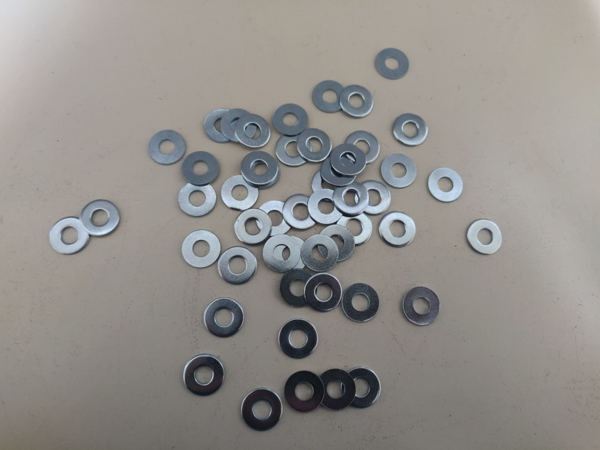circle: (183, 355, 225, 397), (242, 389, 283, 432), (285, 371, 325, 413), (204, 298, 244, 338), (342, 368, 381, 409), (49, 217, 91, 255), (279, 319, 318, 359), (319, 369, 356, 411), (182, 230, 222, 268), (218, 247, 257, 285), (81, 200, 121, 237), (343, 284, 381, 322), (280, 269, 318, 307), (318, 225, 356, 263), (403, 287, 440, 326), (306, 273, 343, 312), (264, 235, 301, 273), (380, 211, 417, 248), (302, 235, 339, 272), (467, 219, 503, 256), (257, 201, 294, 237), (183, 151, 221, 186), (221, 176, 259, 211), (178, 183, 217, 217), (236, 209, 272, 245), (337, 211, 373, 247), (312, 167, 349, 202), (428, 168, 464, 203), (283, 194, 318, 230), (297, 128, 332, 164), (308, 189, 344, 224), (334, 182, 370, 217), (355, 180, 391, 215), (149, 131, 186, 165), (382, 154, 417, 189), (344, 131, 380, 165), (241, 151, 278, 184), (243, 155, 280, 188), (271, 236, 308, 269), (204, 109, 238, 144), (222, 110, 257, 144), (236, 115, 271, 149), (276, 133, 312, 166), (330, 144, 367, 176), (312, 80, 347, 113), (274, 103, 309, 136), (340, 85, 374, 118), (321, 155, 357, 186), (375, 48, 409, 80), (394, 114, 428, 146)
